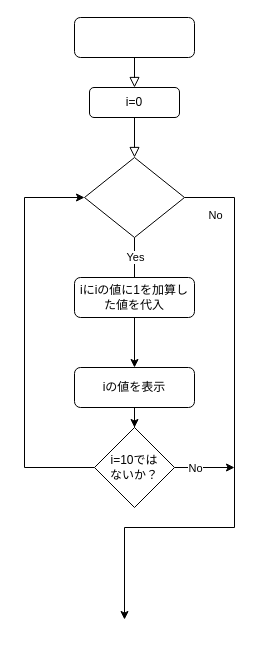
Image size: 260x645. Some labels were removed from this diagram. The shapes that lost their labels are listed below. From the top down, each one's centre as x and y in pixels, then its label:
At (x=134, y=37): "Start".
At (x=134, y=197): "エラー出ない限り ループ処理".
